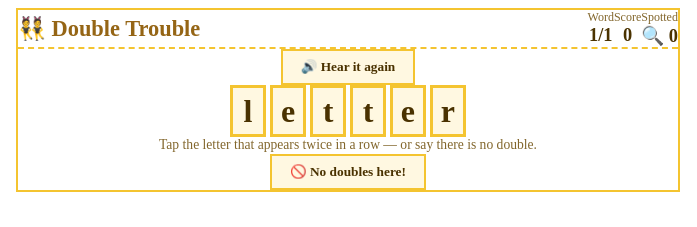
Test: Double Trouble › does not reward claiming no double when the word has one
Click the button "🚫 No doubles here!": (348, 172) [270,154,426,190]
Wait 2000 ms
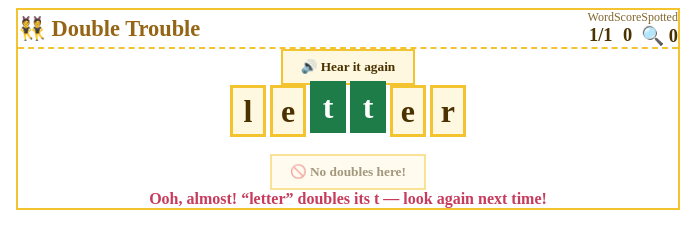
Expected: the text "Ooh, almost! “letter” doubles its t — look again next time!" is shown, [149,190,547,207]
